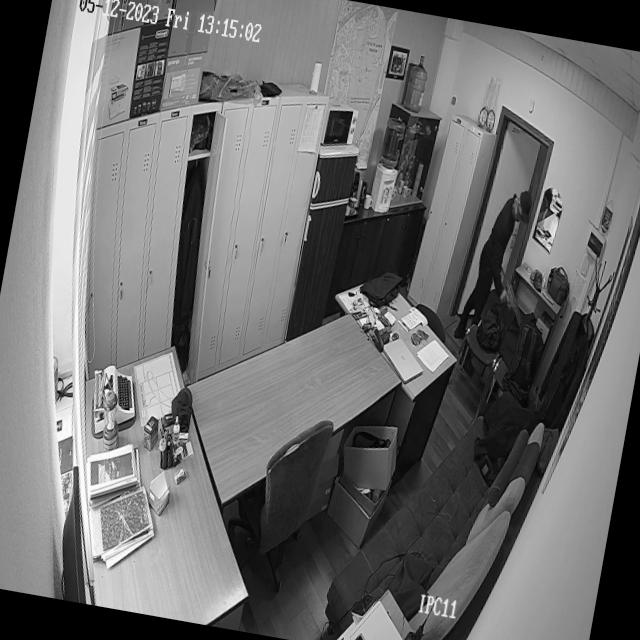gun: (446, 184, 545, 404), (488, 265, 532, 345)
